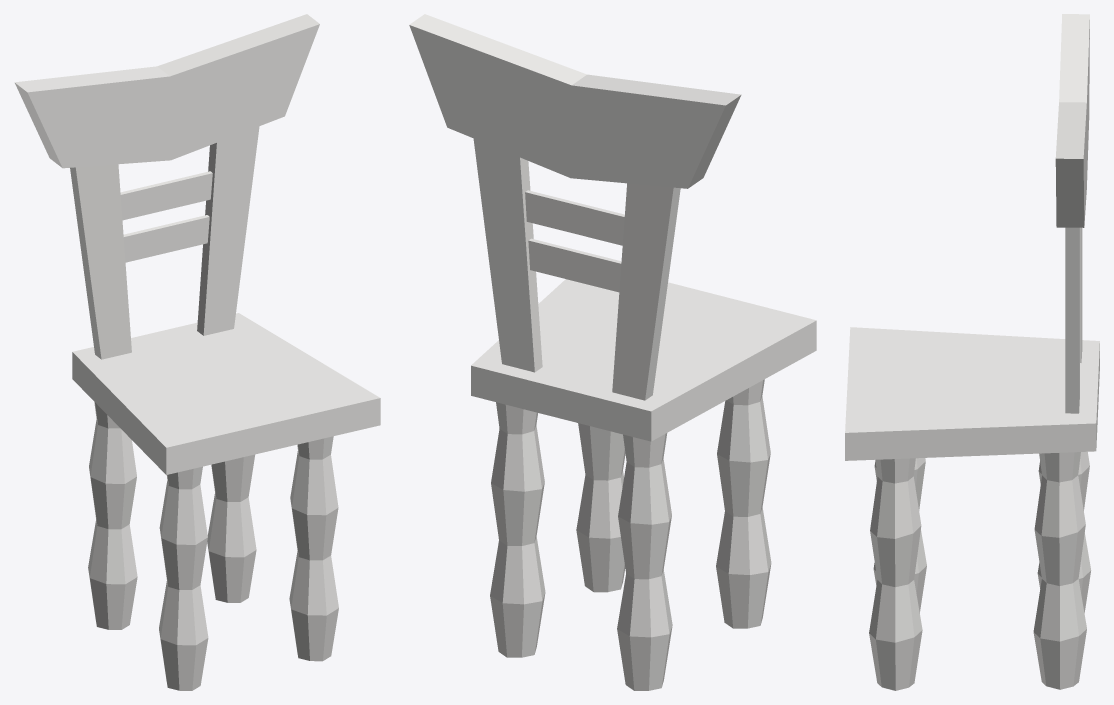
Rendered from Chair_20.fbx.
The picture shows the model from 3 angles, left to right: view 1: azimuth 30°, elevation 25°; view 2: azimuth 150°, elevation 25°; view 3: azimuth 270°, elevation 25°; orthographic projection. The views are drawn at different scales.
Visible parts, largest first — view 1: Chair_20; view 2: Chair_20; view 3: Chair_20.
Boxes of the visible parts, left/top/right/bottom form: Chair_20: left=14, top=14, right=380, bottom=690; Chair_20: left=409, top=14, right=816, bottom=690; Chair_20: left=845, top=14, right=1099, bottom=690.
Size of the model in its own units: 65.79 by 48.86 by 120.
